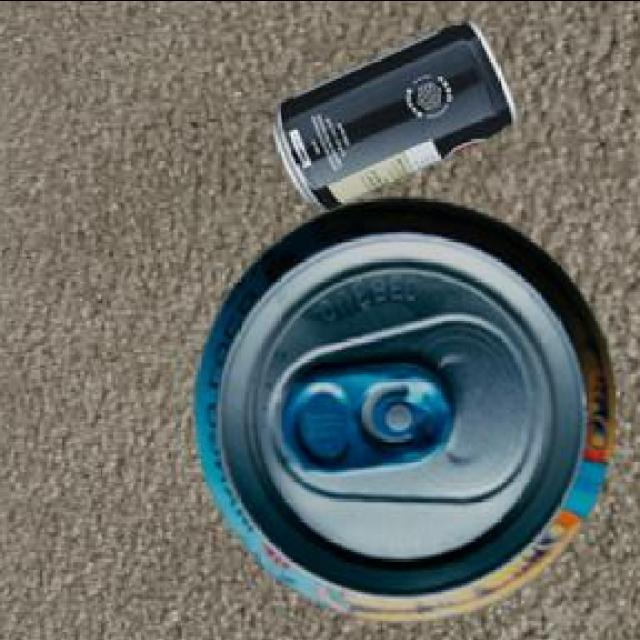logam: (192, 194, 612, 617), (270, 17, 512, 206)
